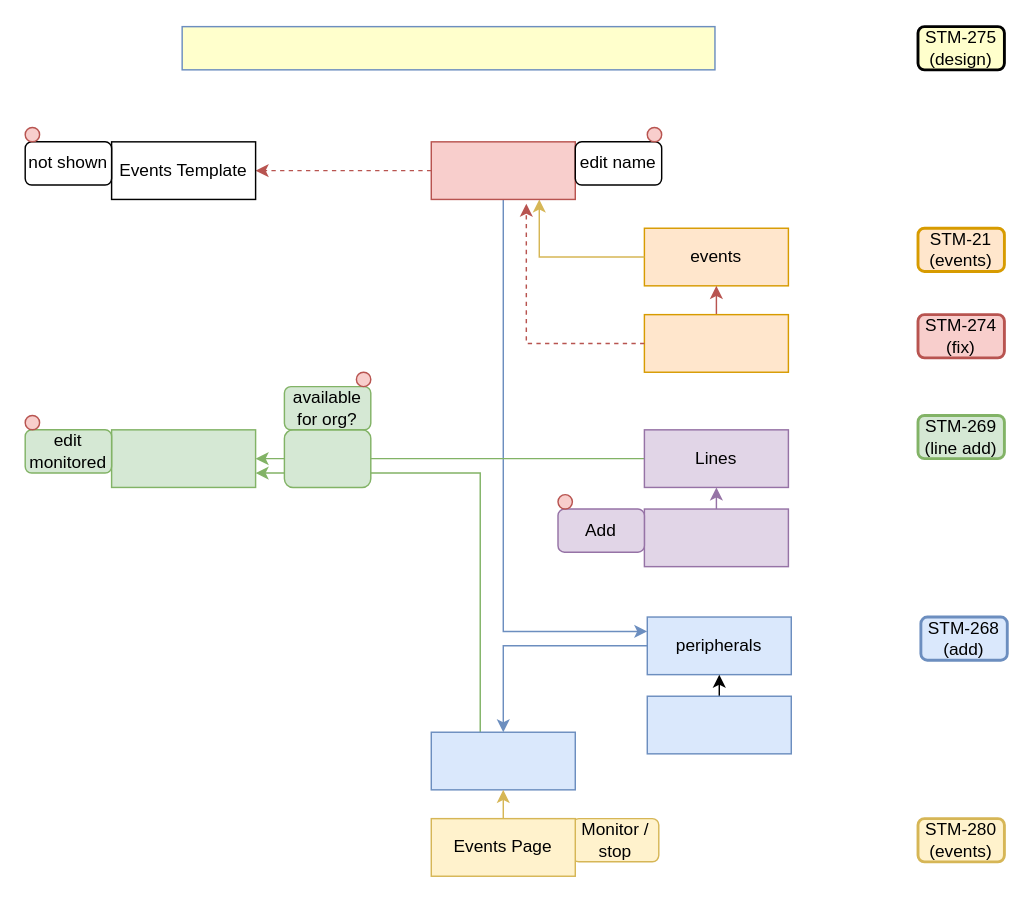
The diagram is 1034 pixels wide and 901 high, and some of its shapes have lost their labels. Each missing label, with the centre of its shape:
Design session for handling events on peripherals: the point at 448,47
Events Library: the point at 502,169
eventsType (MiXVision): the point at 715,342
Mobile Device Template: the point at 183,457
Peripheral Library: the point at 502,760
peripheral made available: the point at 327,457
peripheral type (Standalone): the point at 718,724
Standalone Peripheral Line: the point at 715,537
